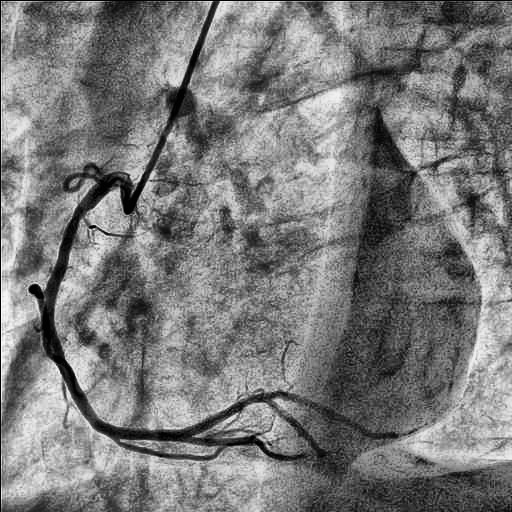pborca: (184, 391, 391, 441)
pda: (187, 436, 300, 461)
rca: (42, 171, 187, 441)
